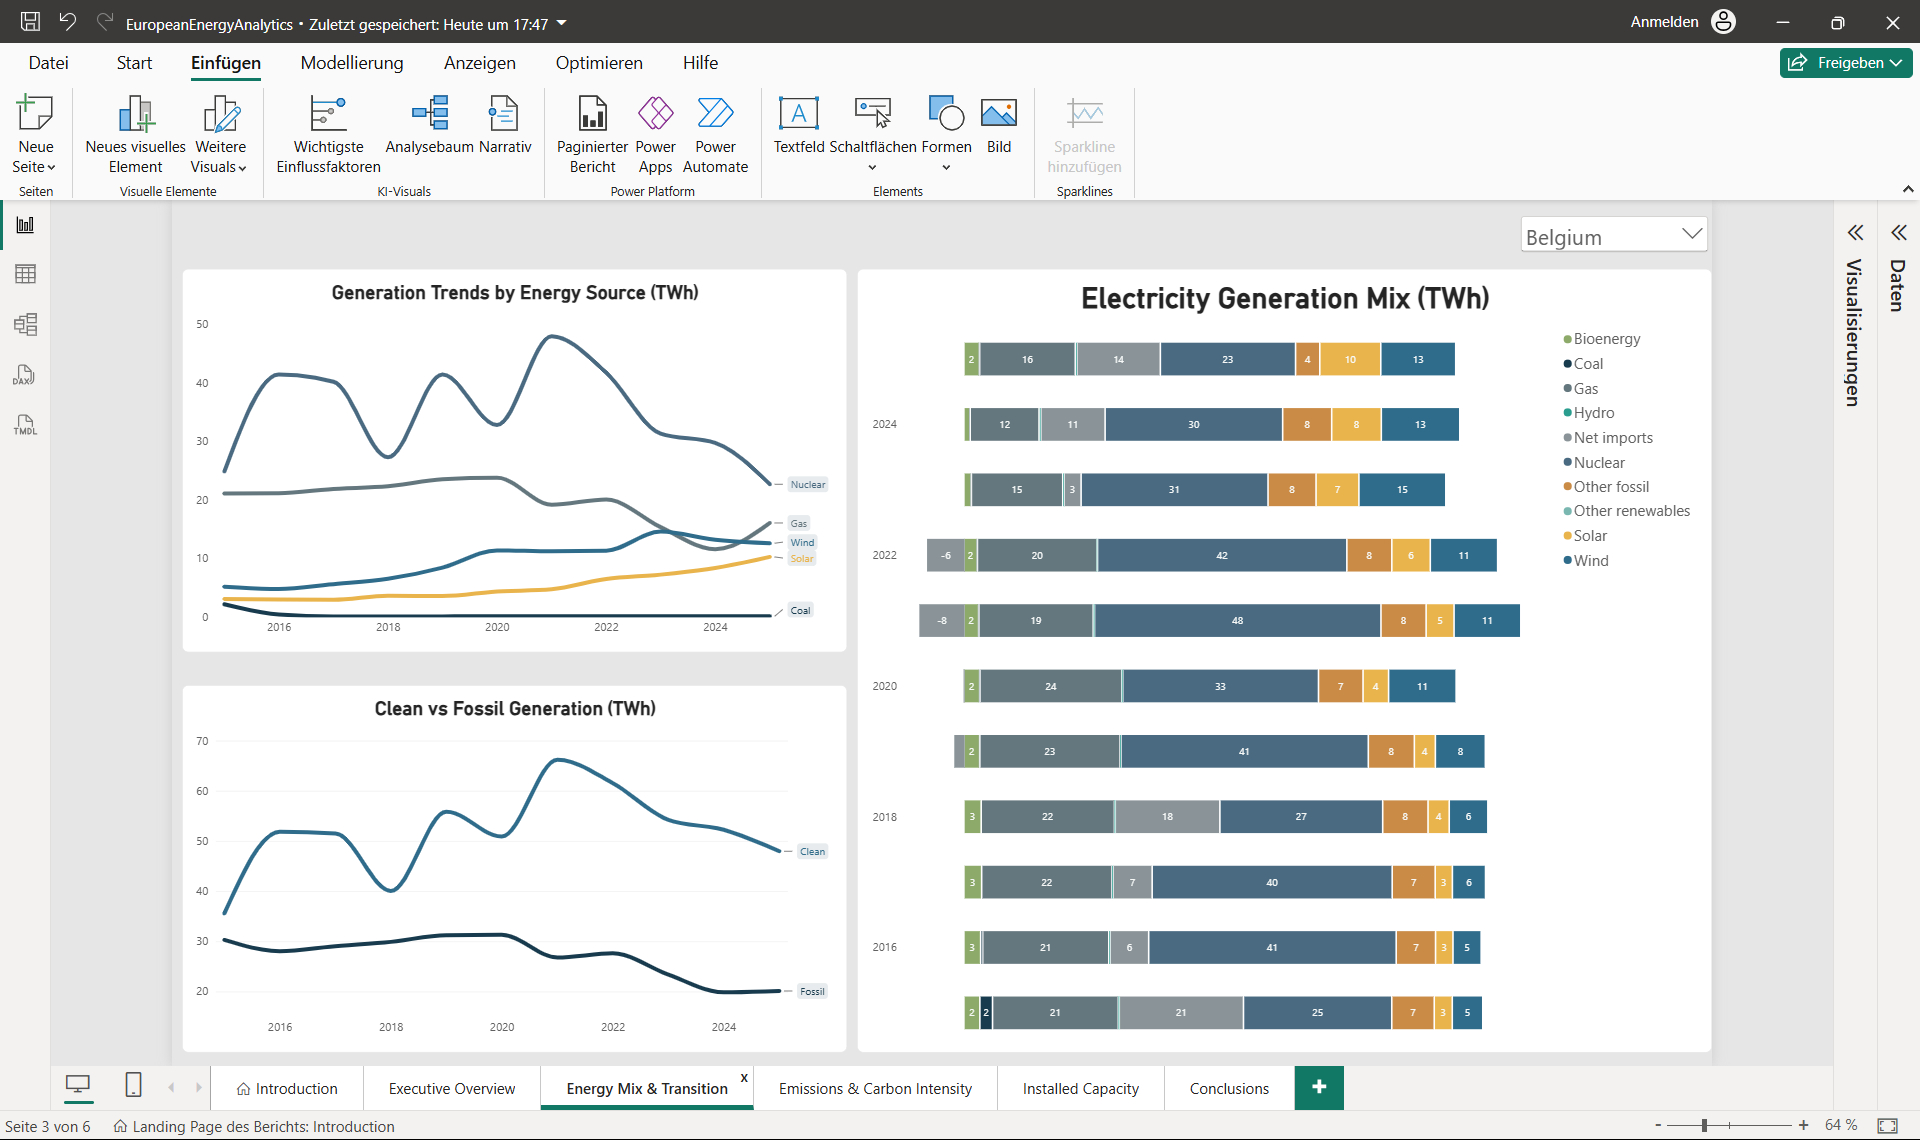

What the dashboard file says about the page in this screenshot:
{"tool":"powerbi","page":{"name":"Energy Mix & Transition","canvas":[1920,1080],"ordinal":2},"visuals":[{"type":"slicer","fields":{"Values":["dim_country.country_name"]},"box":[1677.4,15.6,243.2,49.9],"z":0},{"type":"barChart","title":"Electricity Generation Mix (TWh)","fields":{"Category":["dim_date.date.Variation.Datumshierarchie.Jahr","dim_date.date.Variation.Datumshierarchie.Quartal","dim_date.date.Variation.Datumshierarchie.Monat","dim_date.date.Variation.Datumshierarchie.Tag"],"Y":["Sum(fact_generation.generation_twh)"],"Series":["dim_energy_series.series_name"]},"box":[854.3,85.7,1066.3,977.4],"z":1000},{"type":"lineChart","title":"Generation Trends by Energy Source (TWh)","fields":{"Y":["Sum(fact_generation.generation_twh)"],"Category":["dim_date.date.Variation.Datumshierarchie.Jahr"],"Series":["dim_energy_series.series_name"]},"box":[12.5,85.7,829.3,478.6],"z":2000},{"type":"lineChart","title":"Clean vs Fossil Generation (TWh)","fields":{"Category":["dim_date.date.Variation.Datumshierarchie.Jahr"],"Y":["Sum(fact_generation.generation_twh)"],"Series":["dim_energy_series.series_name"]},"box":[12.5,604.9,829.3,458.3],"z":3000}]}

Visuals, with their boxes on the page's 1920x1080 design canvas (x1, y1, x2, y2). These are canvas units, not pixel positions in the 1920x1140 screenshot, which may show the page scaled, cropped or inside an application window:
slicer - dim_country.country_name: <bbox>1677, 16, 1921, 66</bbox>
"Electricity Generation Mix (TWh)" barChart: <bbox>854, 86, 1921, 1063</bbox>
"Generation Trends by Energy Source (TWh)" lineChart: <bbox>12, 86, 842, 564</bbox>
"Clean vs Fossil Generation (TWh)" lineChart: <bbox>12, 605, 842, 1063</bbox>
